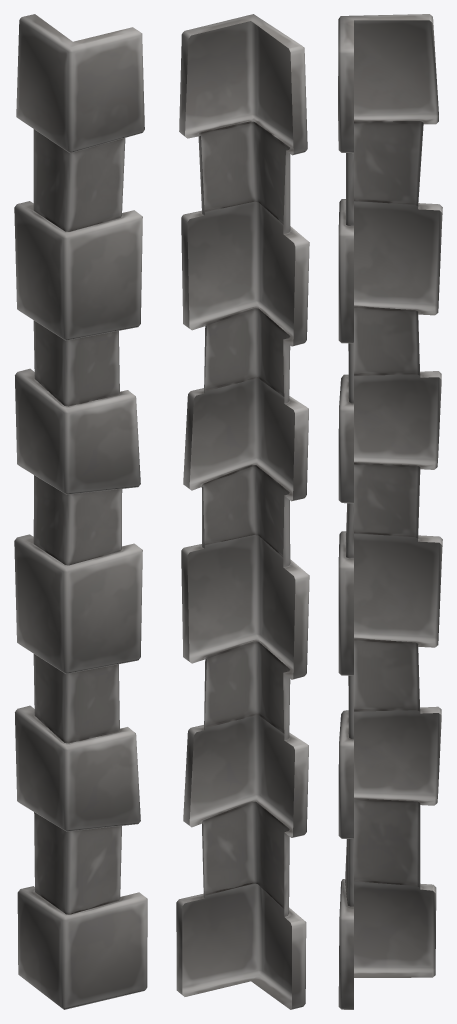
Rendered from PropTrimFacade01_4.FBX.
The picture shows the model from 3 angles, left to right: view 1: azimuth 30°, elevation 25°; view 2: azimuth 210°, elevation 25°; view 3: azimuth 270°, elevation 25°; orthographic projection.
Parts seen in each view (by area): view 1: PropTrimFacade01_4; view 2: PropTrimFacade01_4; view 3: PropTrimFacade01_4.
Part boxes in pixels (bbox=[...]): PropTrimFacade01_4: bbox=[14, 14, 147, 1009]; PropTrimFacade01_4: bbox=[176, 14, 309, 1009]; PropTrimFacade01_4: bbox=[338, 14, 442, 1009].
Size of what is drawn, in the model's own units: 0.3251 by 3.5 by 0.3472.
